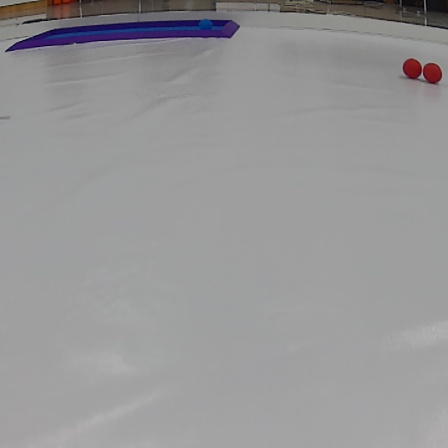blue: (198, 16, 214, 34)
blue_aim: (9, 18, 244, 55)
red: (401, 54, 421, 80), (423, 60, 441, 85)
